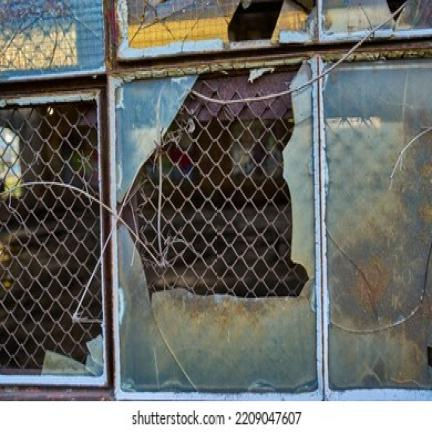karat: (136, 96, 309, 297)
